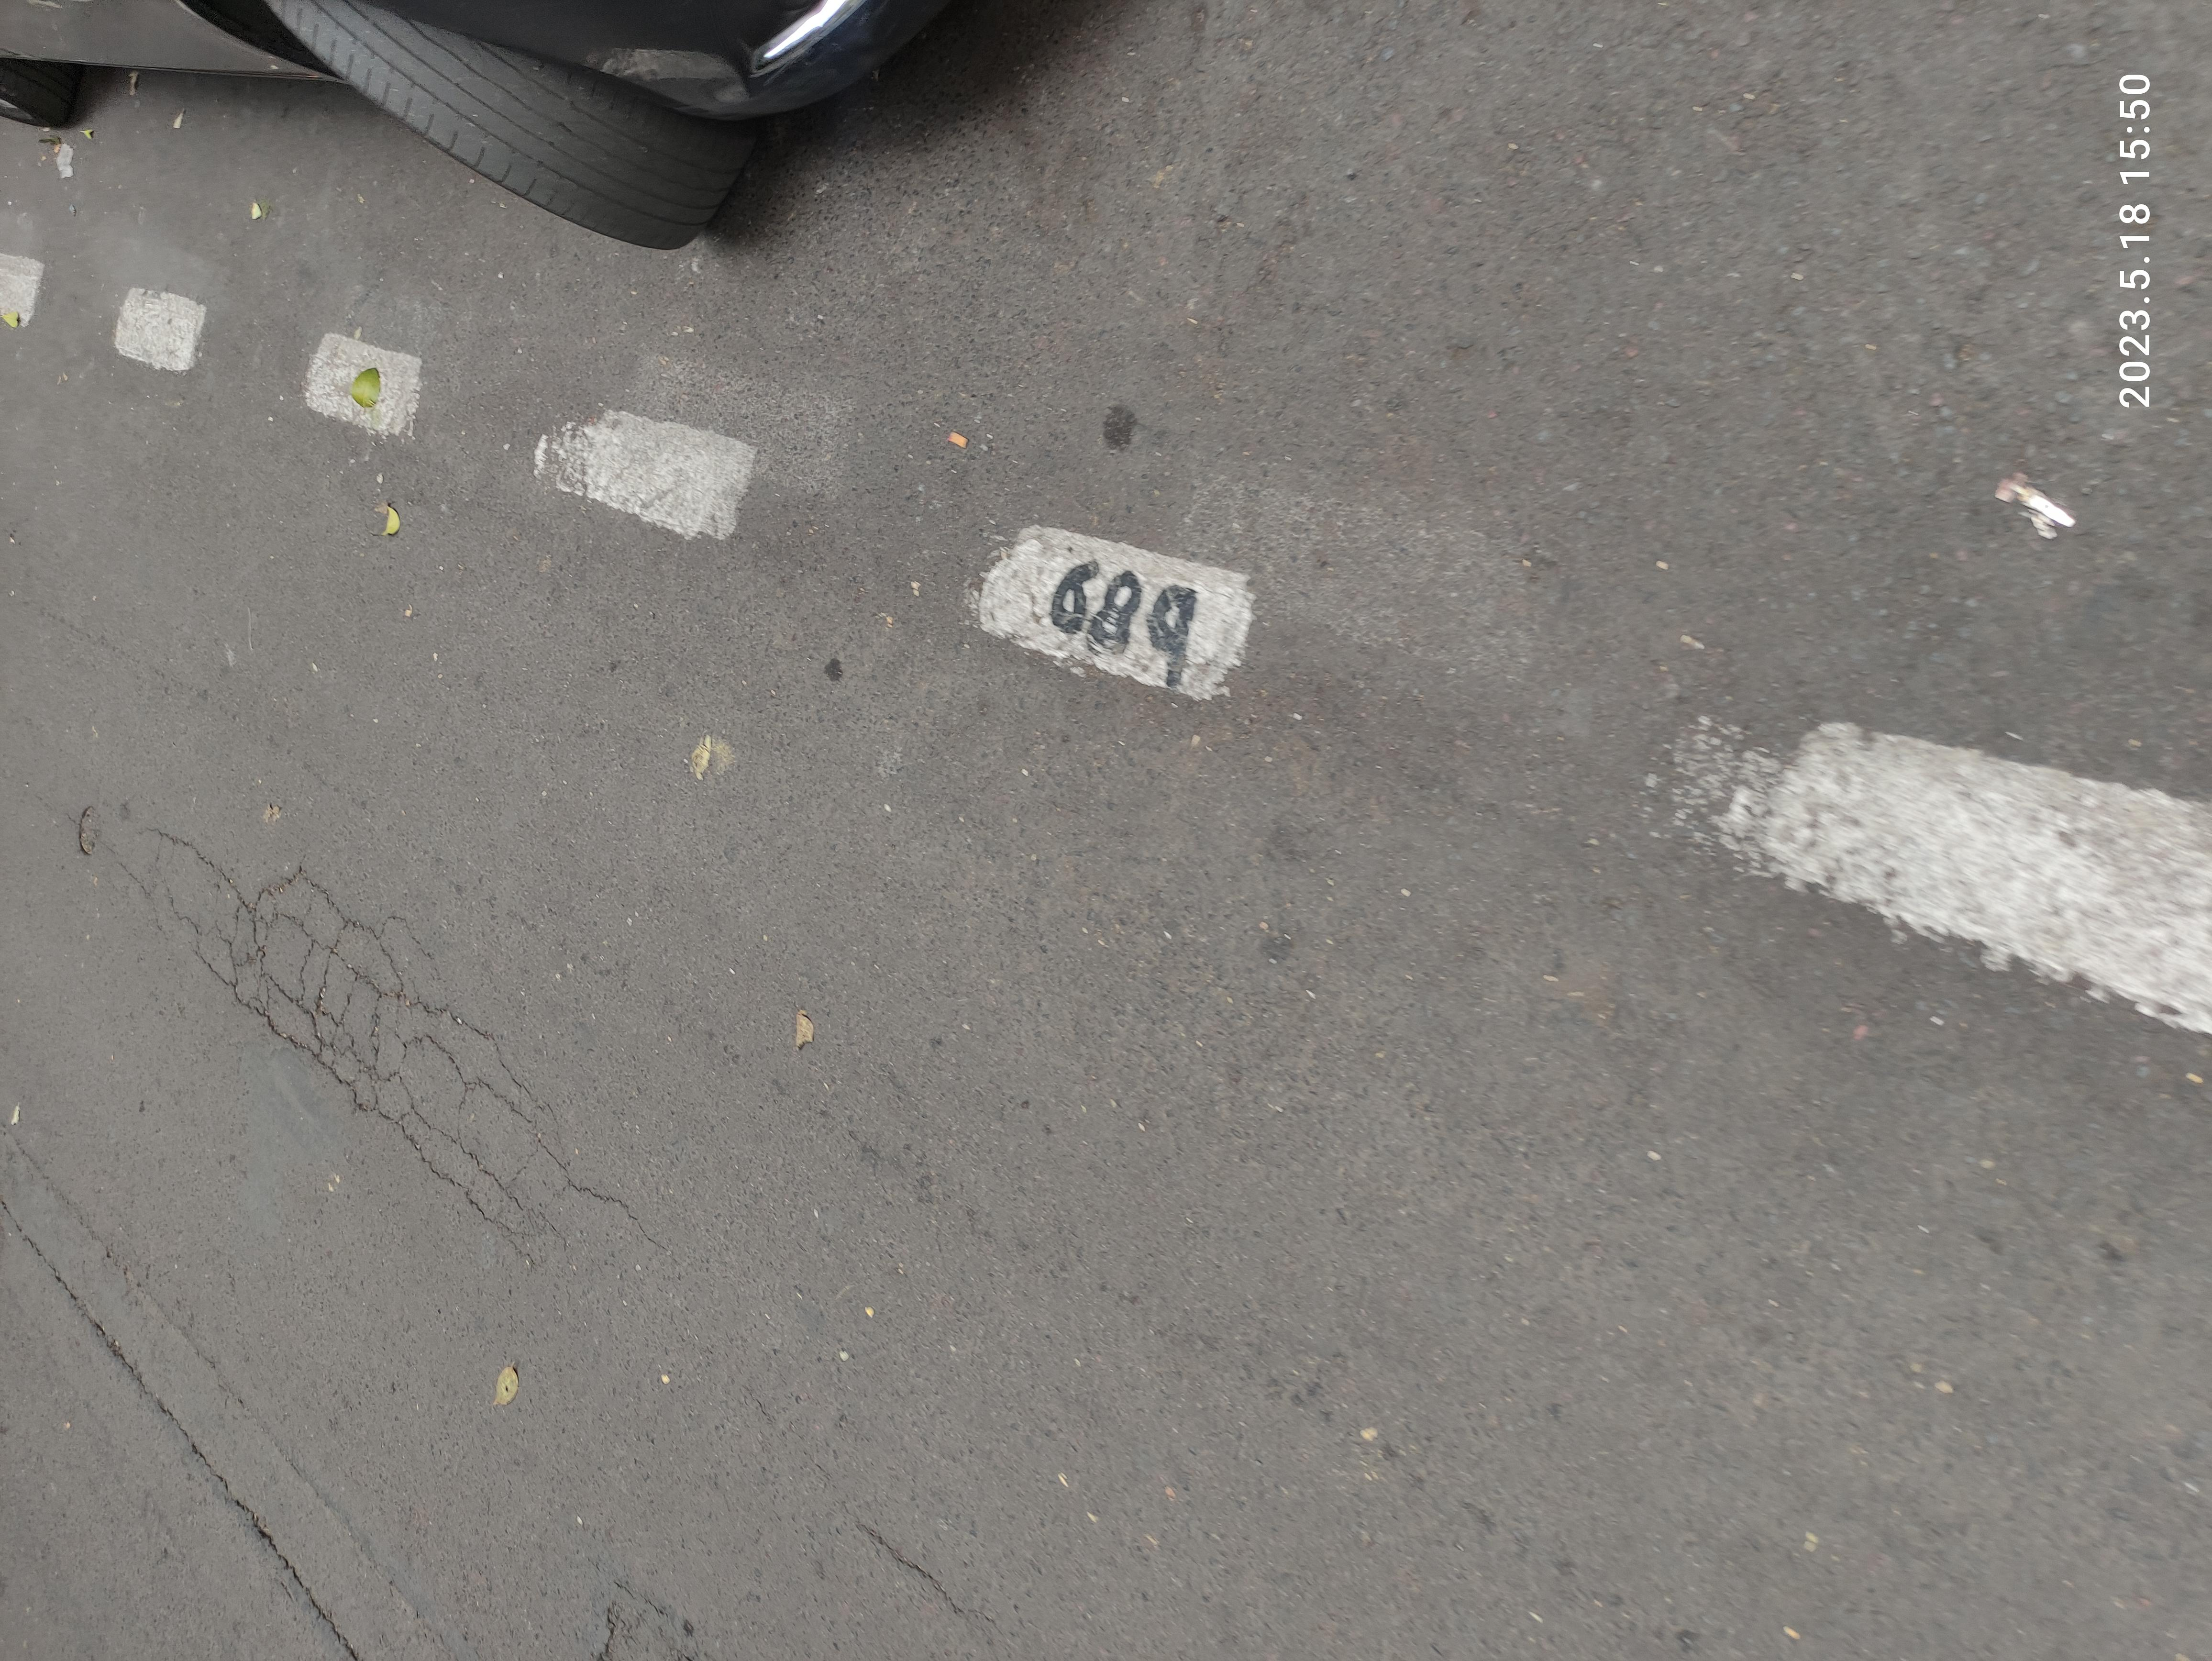alligator-crack: (508, 92, 1139, 508)
crack: (9, 59, 466, 290), (56, 633, 199, 735), (478, 2, 712, 61)
pothole: (1068, 51, 1148, 82)
